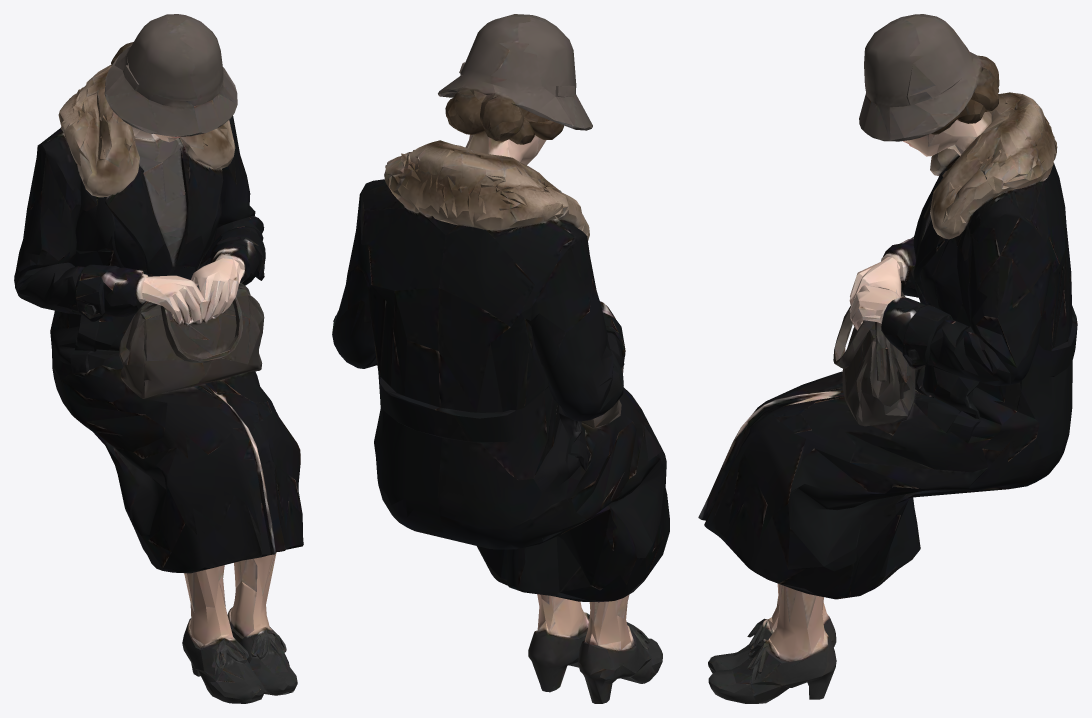
Rendered from passenger_d.glb.
3 renders of one model, left to right at view 1: azimuth 30°, elevation 25°; view 2: azimuth 150°, elevation 25°; view 3: azimuth 270°, elevation 25°, orthographic. The views are drawn at different scales.
Visible parts, largest first — view 1: Mesh_0; view 2: Mesh_0; view 3: Mesh_0.
Part boxes in pixels (bbox=[...]): Mesh_0: bbox=[14, 14, 303, 703]; Mesh_0: bbox=[332, 14, 669, 703]; Mesh_0: bbox=[698, 14, 1077, 703].
Size of the model in its own units: 0.8019 by 1.9 by 0.9811.
Materials: 1 (1 with a texture image).
